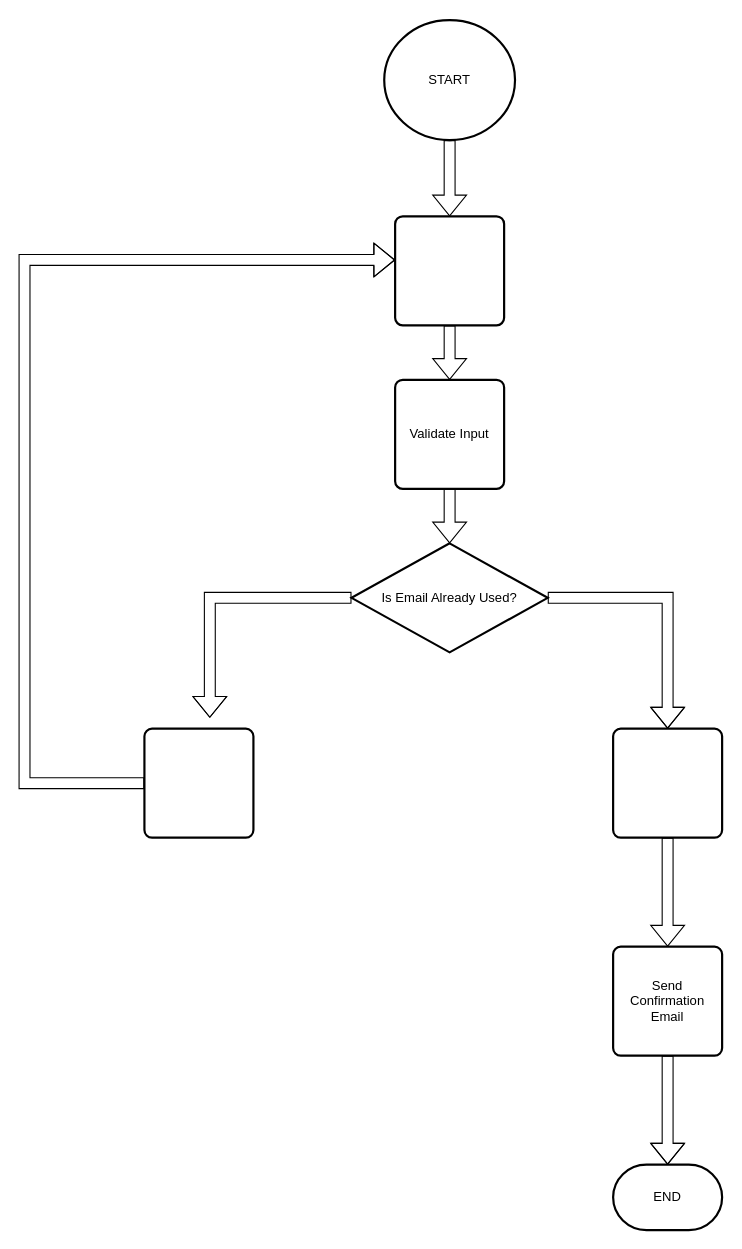
The diagram is 742 pixels wide and 1249 high, and some of its shapes have lost their labels. The shapes that lost their labels are listed below. From the top down, each one's centre as x and y in pixels, then its label:
At point (449, 270): "Enter Email and Password".
At point (198, 782): "Show Error".
At point (667, 782): "Create Account".
